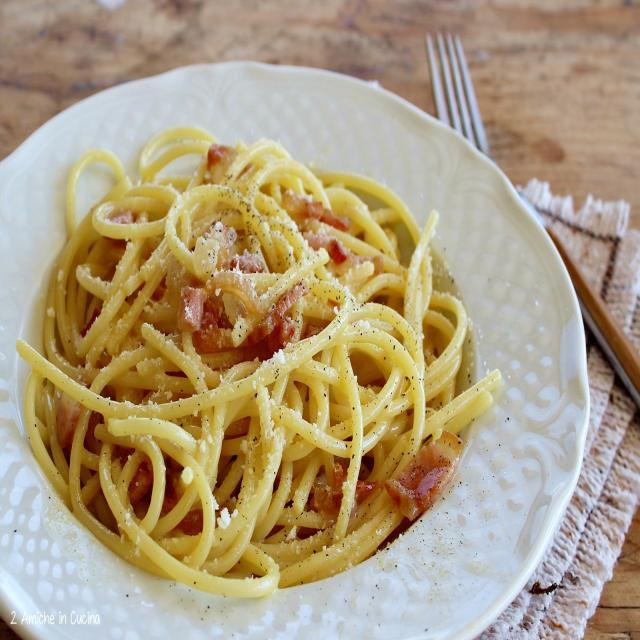Pasta with carbonara sauce: (23, 122, 531, 606)
